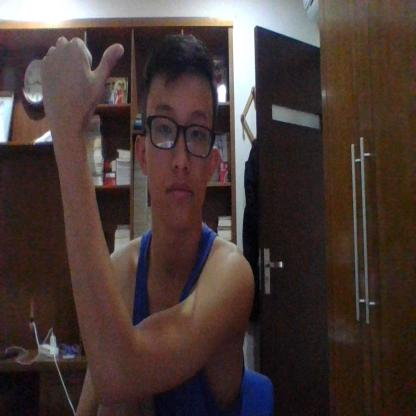left: (38, 35, 124, 138)
